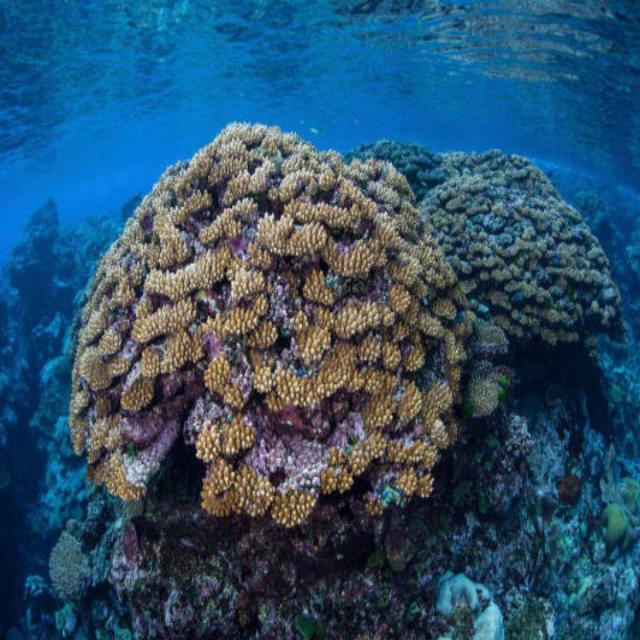Healthy Coral: (71, 132, 619, 534)
